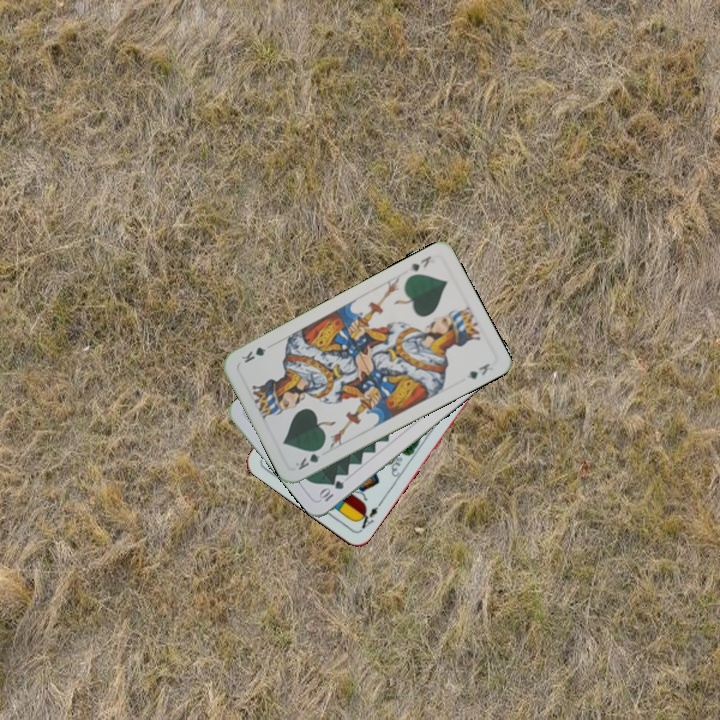EA: (353, 498, 385, 533)
G10: (315, 476, 347, 504)
GK: (291, 443, 326, 472), (406, 251, 434, 274)
